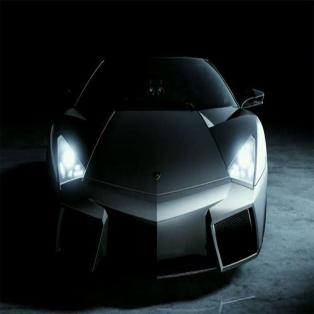Auto: (48, 51, 268, 284)
